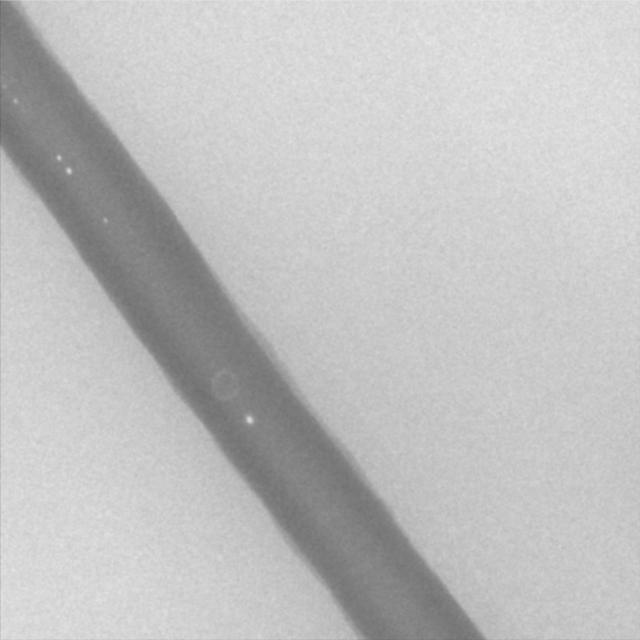air hole: (243, 412, 254, 425), (64, 165, 74, 176), (11, 95, 19, 107), (101, 216, 109, 225), (55, 152, 62, 162)
hollow bead: (209, 368, 242, 404)
